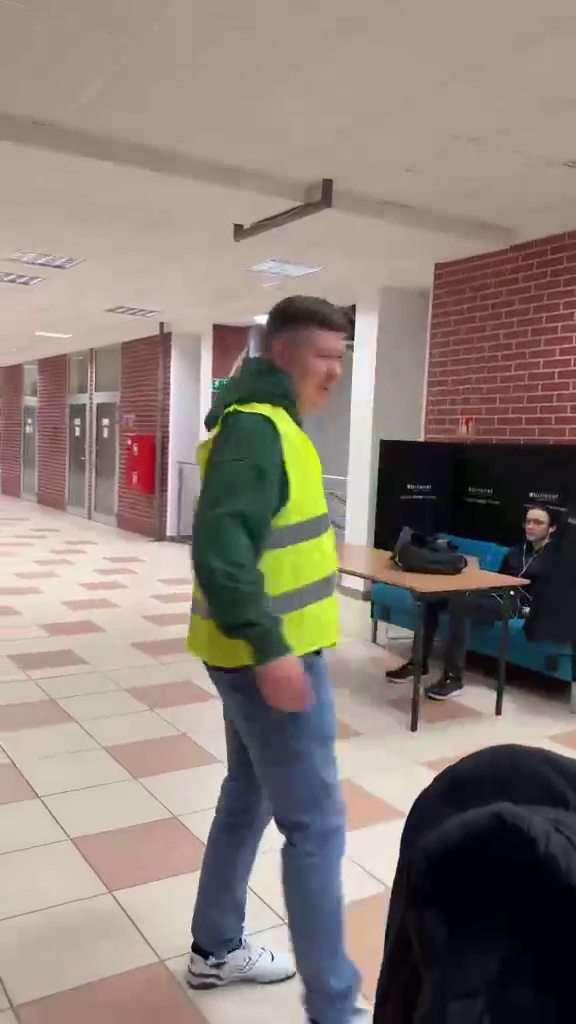no vest: (437, 482, 563, 671)
vest: (189, 283, 405, 1024)
